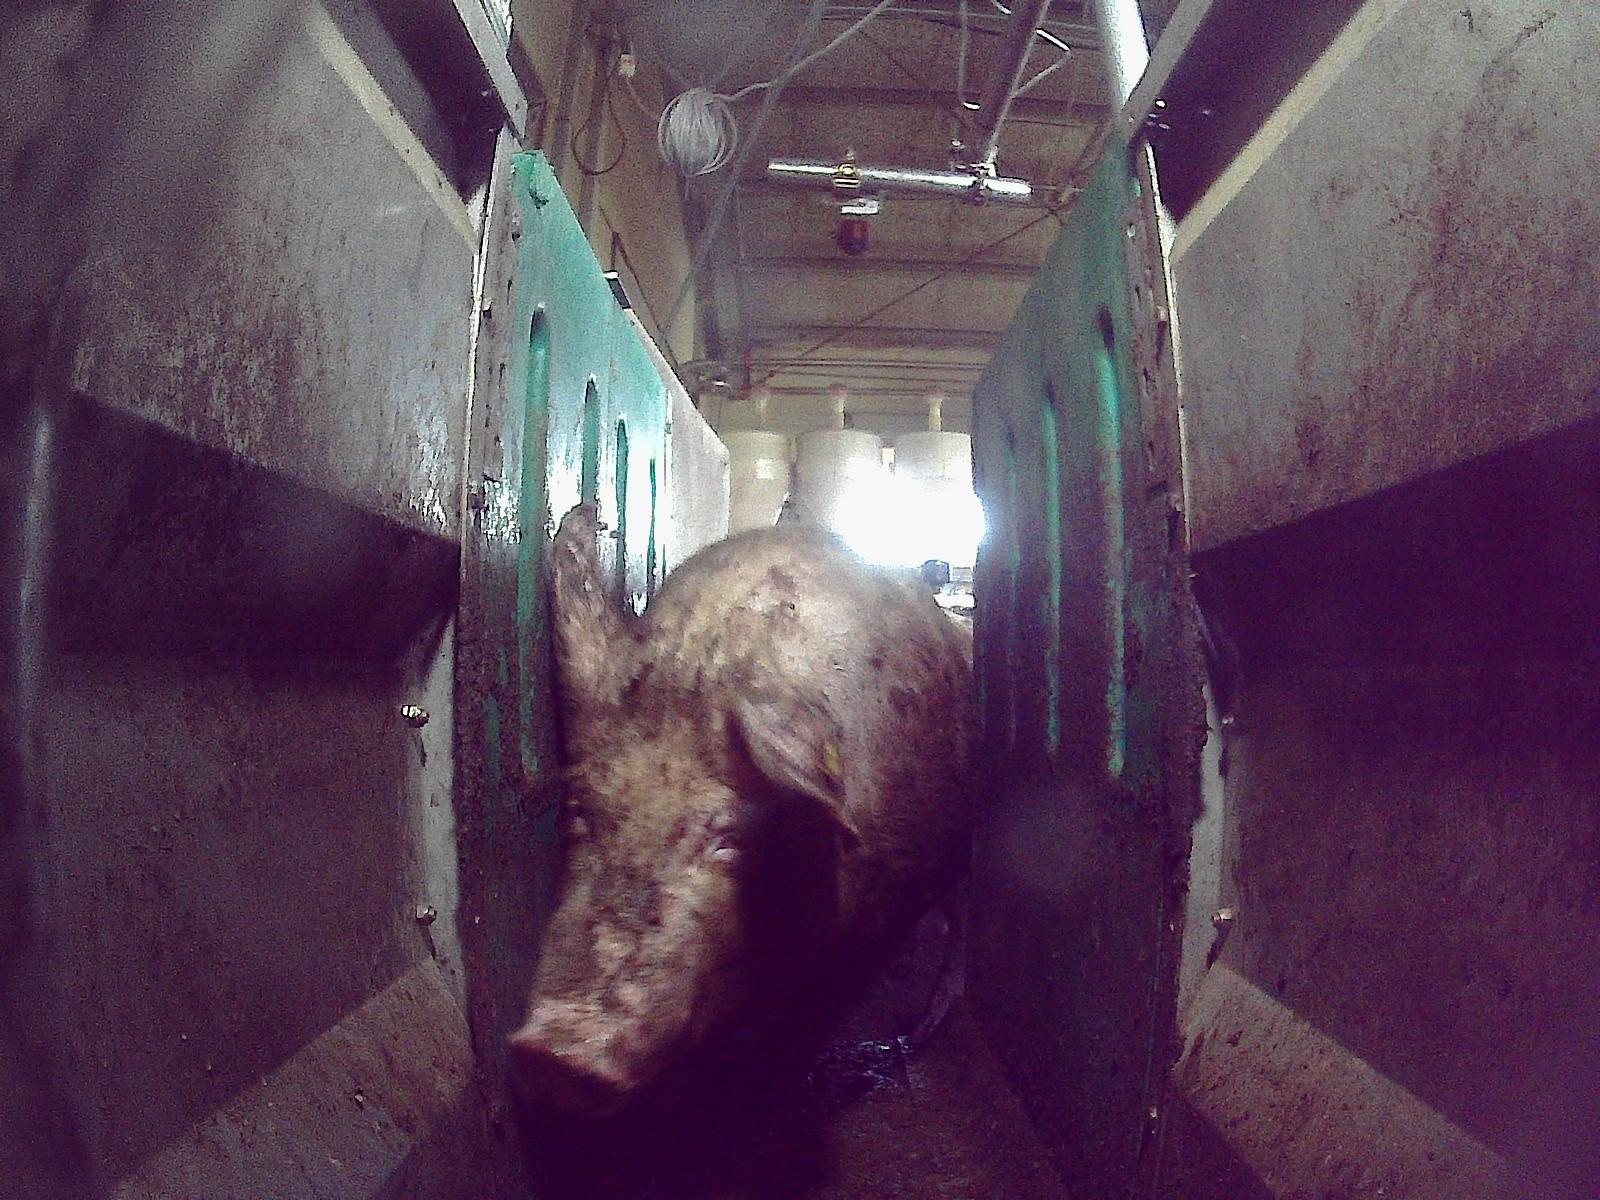Face: (515, 670, 800, 1114)
